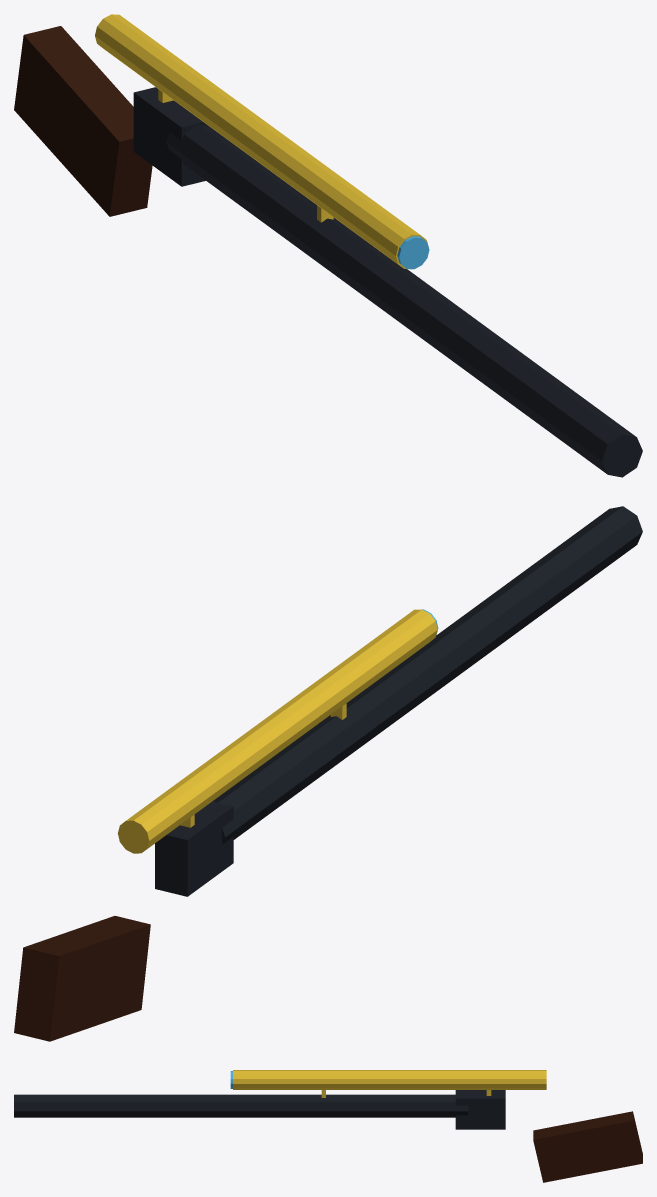
File: fps_sniper.obj
The picture shows the model from 3 angles, top to bottom: view 1: azimuth 30°, elevation 25°; view 2: azimuth 150°, elevation 25°; view 3: azimuth 270°, elevation 25°; orthographic projection. The views are drawn at different scales.
Parts seen in each view (by area): view 1: Cylinder, Cube, Cylinder.001, Cube.001, Cylinder.002; view 2: Cylinder, Cylinder.001, Cube, Cube.001; view 3: Cylinder, Cylinder.001, Cube, Cube.001.
Boxes of the visible parts, x1,y1,x2,y2 form: Cylinder: (166,124,642,477); Cube: (14,26,152,216); Cylinder.001: (95,14,426,269); Cube.001: (133,87,208,186); Cylinder.002: (397,236,429,269); Cylinder: (213,506,642,844); Cylinder.001: (117,609,437,853); Cube: (14,916,150,1041); Cube.001: (155,801,233,896); Cylinder: (14,1094,468,1117); Cylinder.001: (233,1070,546,1089); Cube: (533,1111,642,1182); Cube.001: (455,1090,505,1129).
Bounding box in the file's own units: 0.0386 × 0.1384 × 0.7615.
